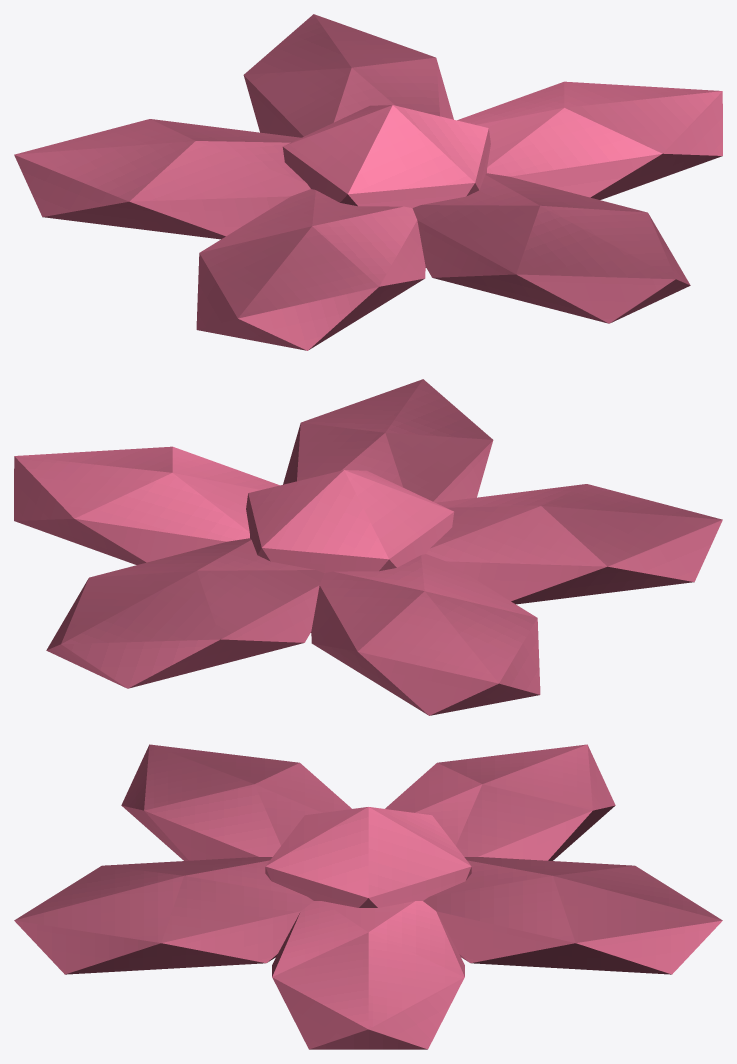
The model's file is cicek.gltf.
3 views of the same model, one above another, from view 1: azimuth 30°, elevation 25°; view 2: azimuth 150°, elevation 25°; view 3: azimuth 270°, elevation 25° (orthographic). The views are drawn at different scales.
Parts seen in each view (by area): view 1: cicek; view 2: cicek; view 3: cicek.
Part boxes in pixels (left/top/right/bottom): cicek: left=14, top=14, right=722, bottom=350; cicek: left=14, top=379, right=722, bottom=715; cicek: left=14, top=744, right=722, bottom=1049.
Size of the model in its own units: 0.5625 by 0.15 by 0.5851.
Materials: 1 (1 with a texture image).
